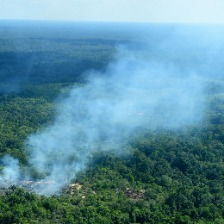incendio: (1, 157, 100, 204)
